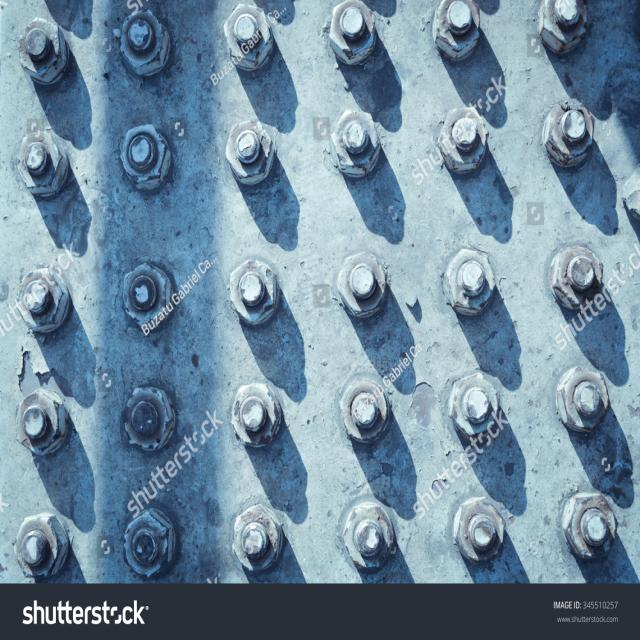bolt nut: (562, 489, 619, 566), (446, 366, 501, 442), (339, 502, 396, 573), (555, 363, 611, 435), (336, 249, 389, 323), (453, 494, 507, 566), (14, 386, 67, 459), (15, 267, 71, 336), (230, 501, 282, 575), (444, 245, 496, 318), (338, 376, 392, 446), (543, 96, 596, 167), (12, 513, 68, 580), (122, 510, 174, 582), (119, 9, 171, 79), (223, 117, 275, 187), (551, 244, 604, 312), (17, 129, 69, 198), (230, 382, 282, 451), (122, 262, 173, 332), (223, 2, 272, 74), (17, 17, 68, 86), (122, 123, 172, 193), (331, 108, 381, 178), (229, 258, 279, 328), (122, 387, 175, 453), (438, 106, 488, 172), (326, 2, 377, 66), (431, 1, 481, 62), (536, 2, 590, 55)
